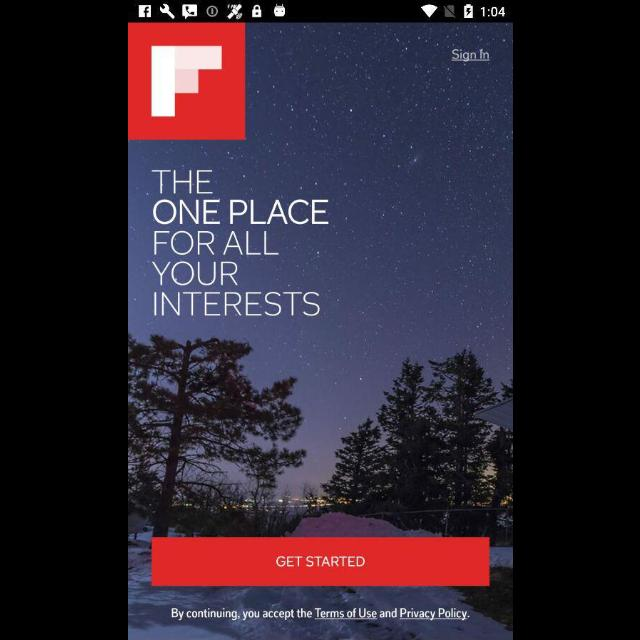backgroundimage: (128, 24, 512, 640)
text: (150, 169, 328, 317), (171, 607, 469, 621), (450, 49, 490, 63)
textbutton: (151, 538, 489, 586)
uppertaskbar: (128, 1, 512, 23)
